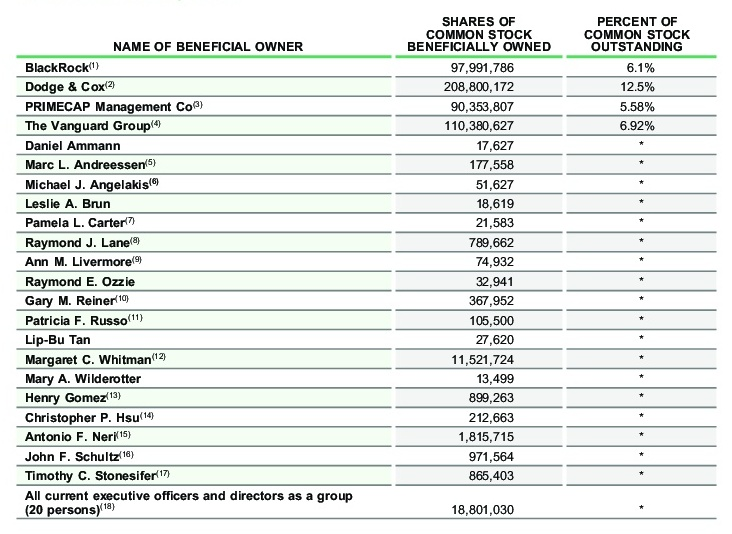table: (0, 0, 732, 534)
